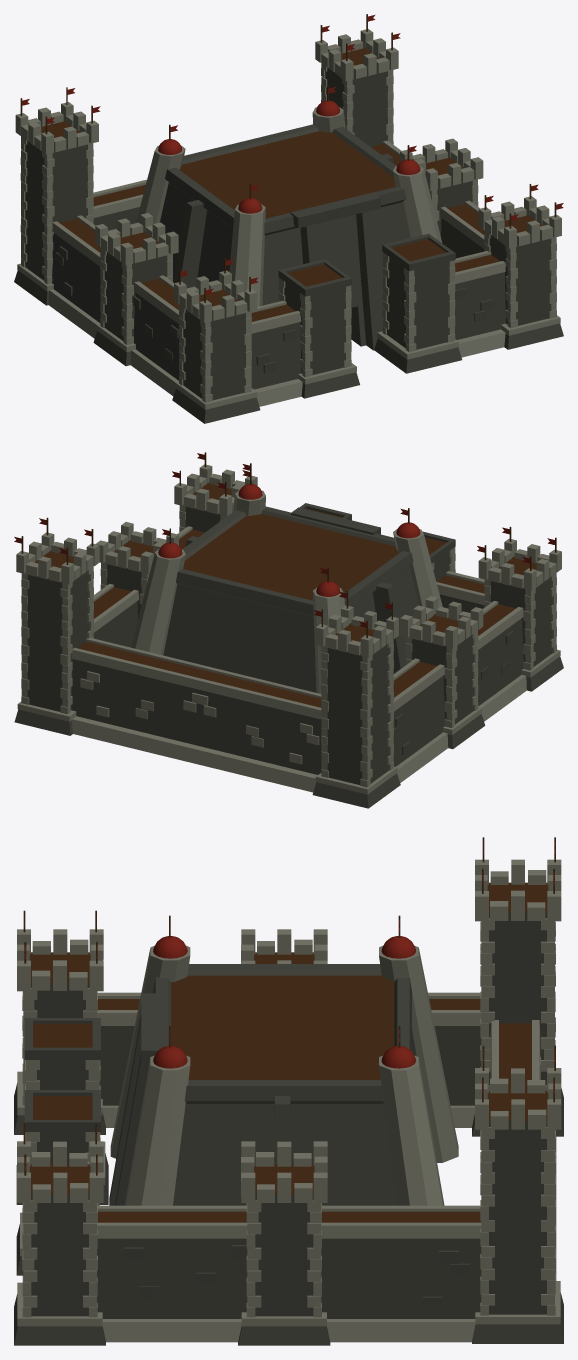
The model's file is Enemy_base_2.FBX.
3 renders of one model, top to bottom at view 1: azimuth 30°, elevation 25°; view 2: azimuth 150°, elevation 25°; view 3: azimuth 270°, elevation 25°, orthographic. The views are drawn at different scales.
Visible parts, largest first — view 1: Enemy_base_2; view 2: Enemy_base_2; view 3: Enemy_base_2.
Boxes of the visible parts, left/top/right/bottom form: Enemy_base_2: left=14, top=14, right=563, bottom=423; Enemy_base_2: left=14, top=452, right=563, bottom=808; Enemy_base_2: left=14, top=837, right=563, bottom=1345.
Size of the model in its own units: 2.13 by 1.08 by 1.96.
